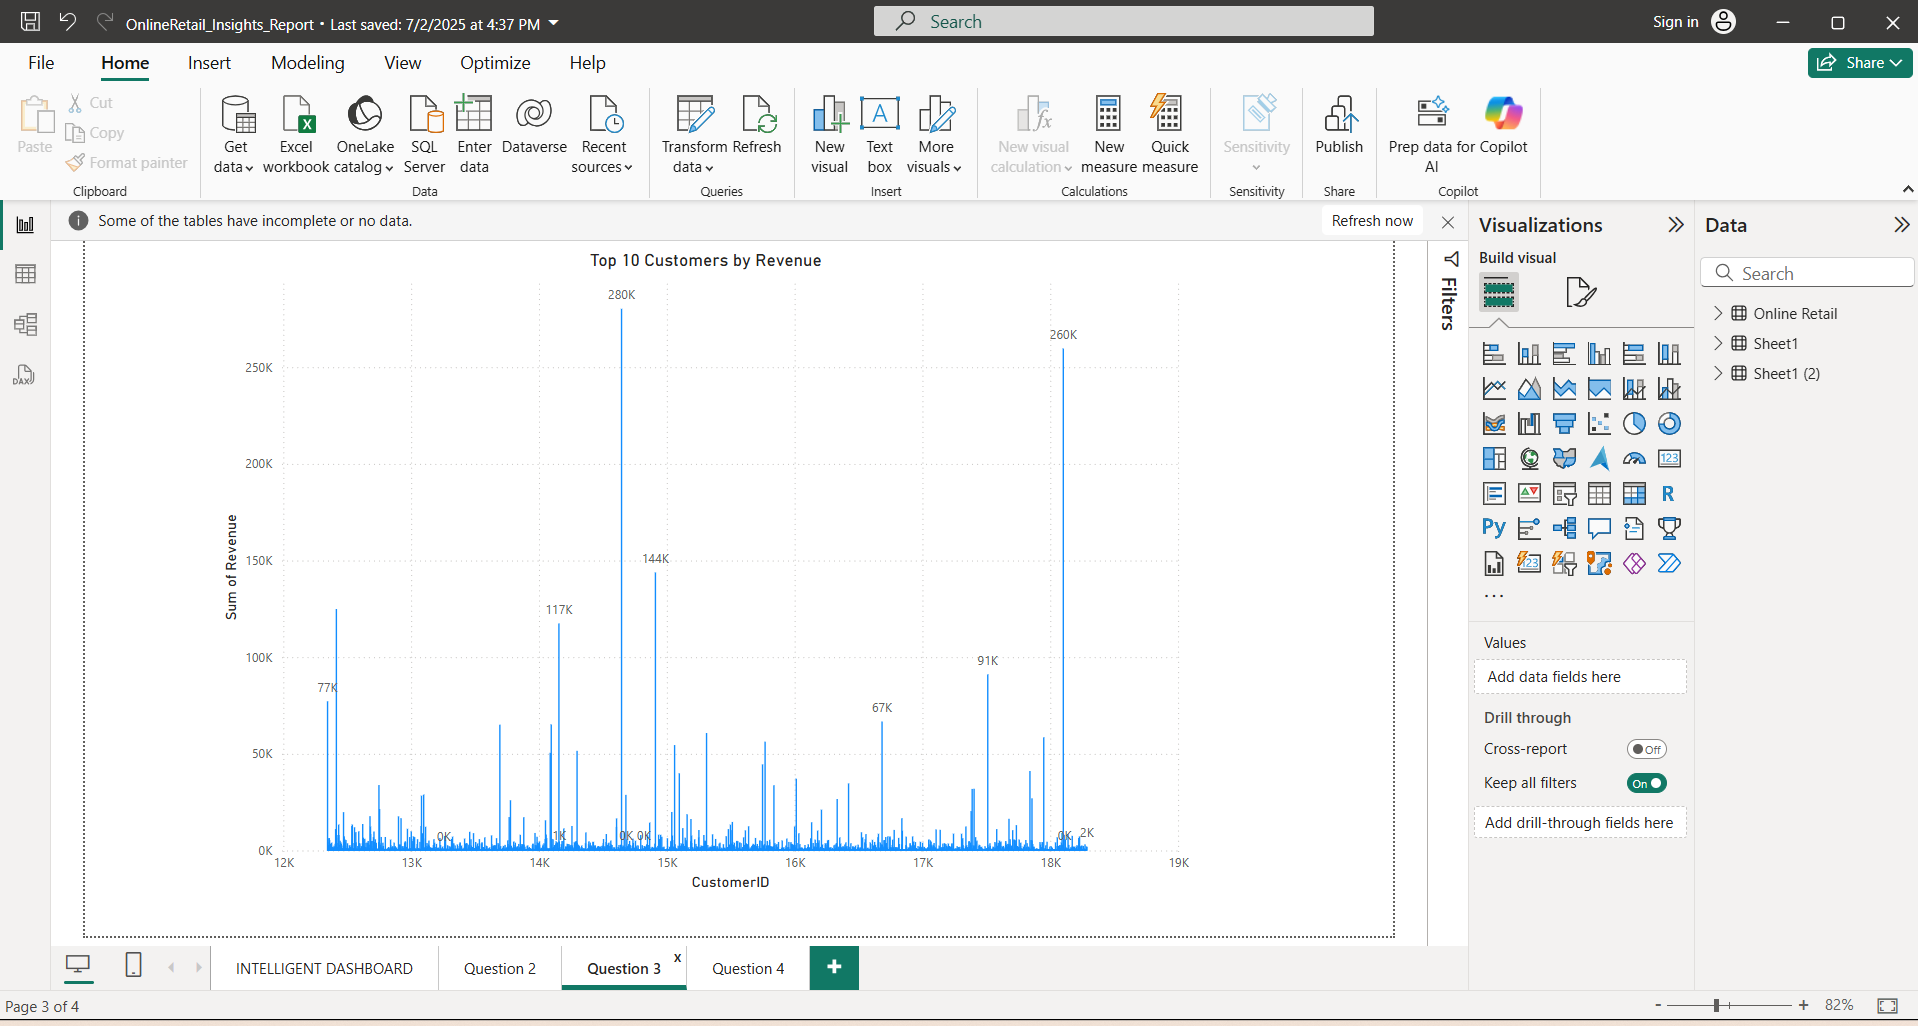

What the dashboard file says about the page in this screenshot:
{"tool":"powerbi","page":{"name":"Question 3","canvas":[1280,720],"ordinal":2},"visuals":[{"type":"clusteredColumnChart","title":"Top 10 Customers by Revenue","fields":{"Category":["Online Retail.CustomerID"],"Y":["Sum(Online Retail.Revenue)"]},"box":[130,48.6,955.7,631.4],"z":0}]}

Visuals, with their boxes on the page's 1280x720 design canvas (x1, y1, x2, y2). These are canvas units, not pixel positions in the 1918x1026 screenshot, which may show the page scaled, cropped or inside an application window:
"Top 10 Customers by Revenue" clusteredColumnChart: x1=130 y1=49 x2=1086 y2=680
